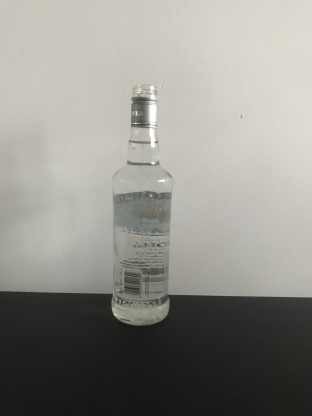nakretka: (128, 82, 159, 130)
